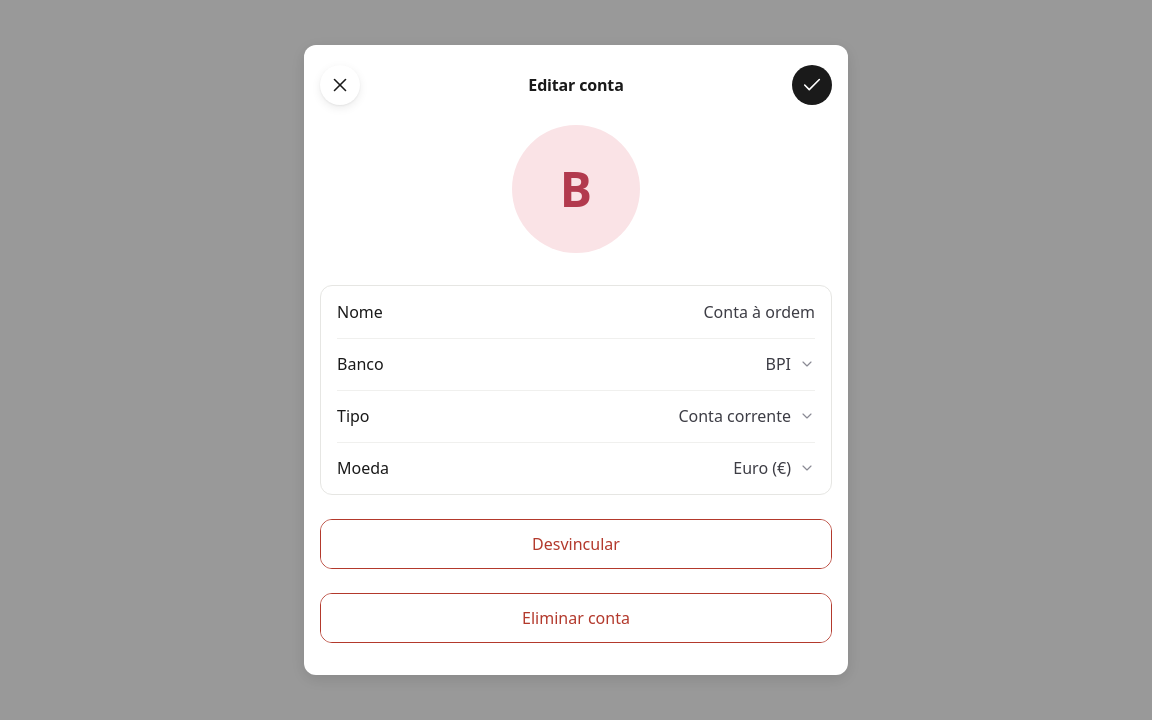
Test: Página Editar conta › desvincular › numa conta vinculada, «Desvincular» pede confirmação e só depois desvincula
Click the button "Desvincular" at (576, 544), box 321,520 -> 831,568
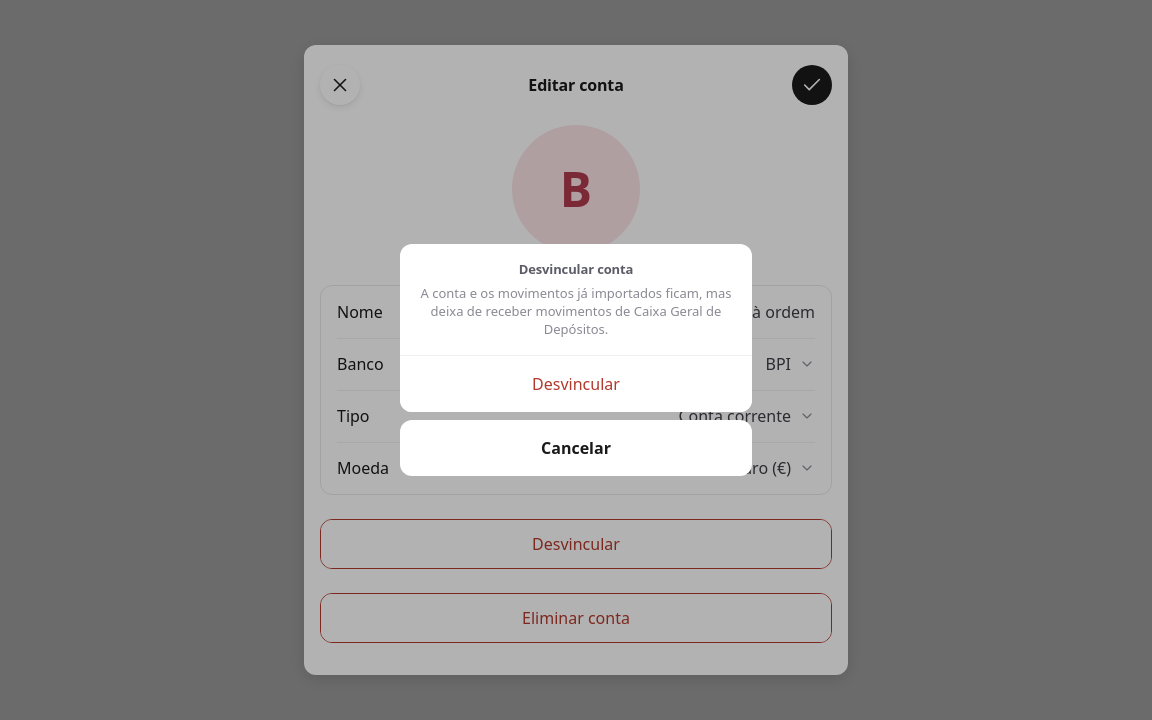
expect the dialog "Desvincular conta" shows "Caixa Geral de Depósitos": met, box 544,302 -> 721,338
Click the button "Desvincular" at (576, 384), box 400,356 -> 752,412
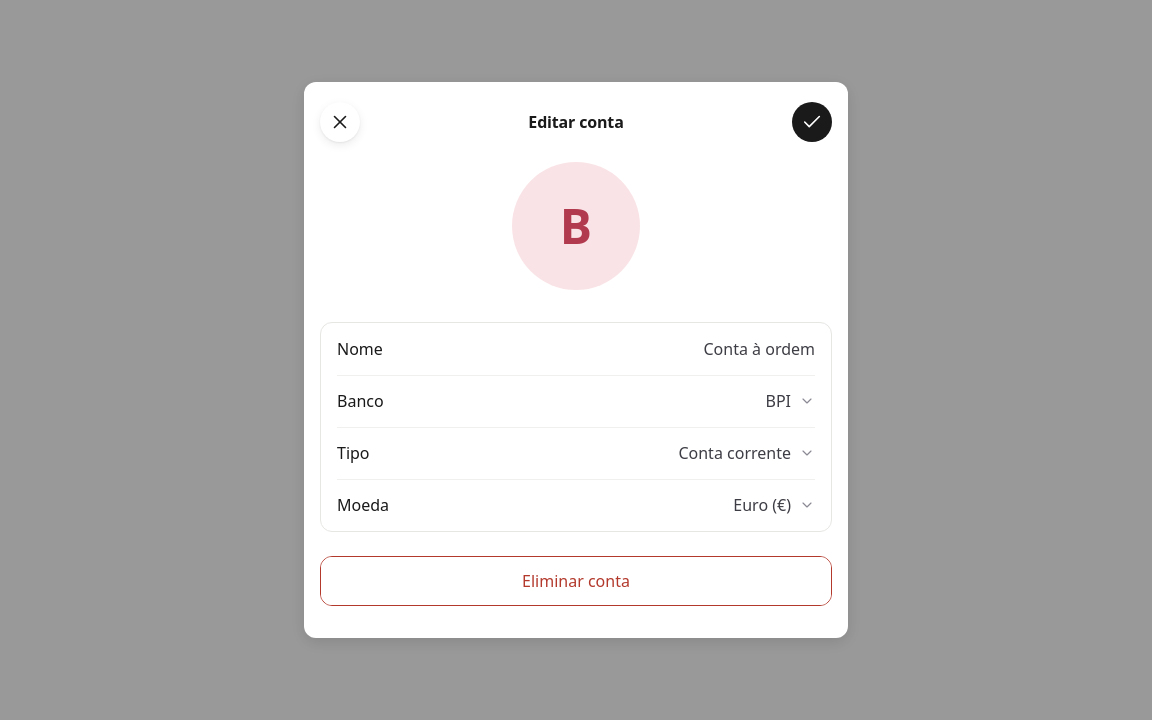
expect the button "Desvincular" is gone: met
